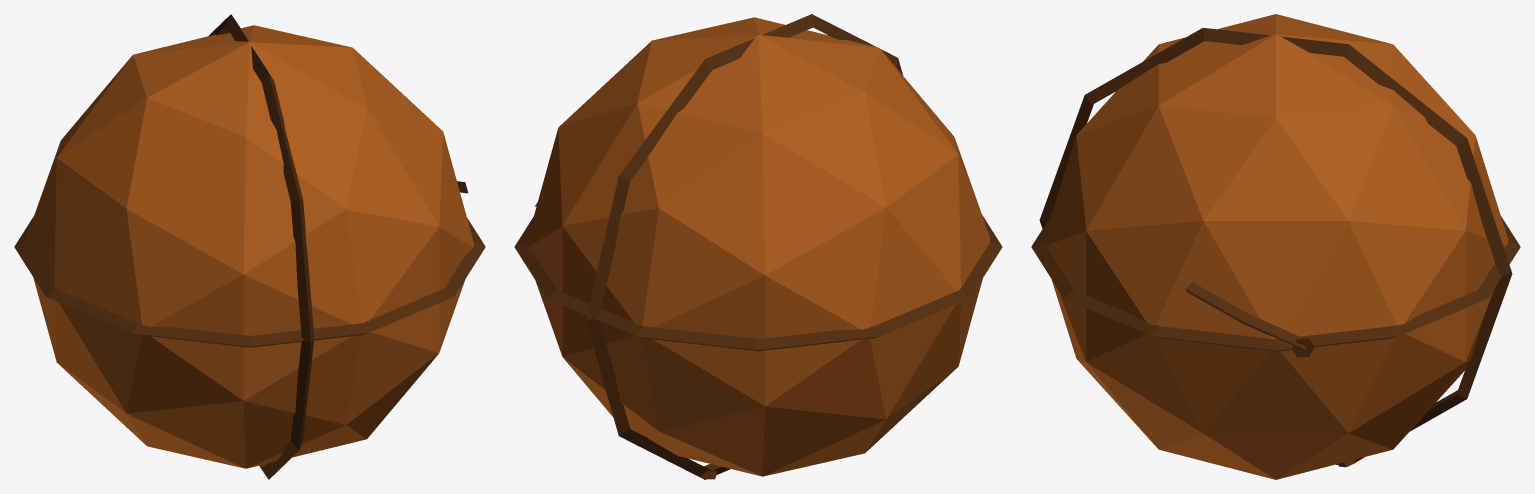
Rendered from atlas_globe.glb.
3 renders of one model, left to right at view 1: azimuth 30°, elevation 25°; view 2: azimuth 150°, elevation 25°; view 3: azimuth 270°, elevation 25°, orthographic. The views are drawn at different scales.
Parts seen in each view (by area): view 1: 692-basketball; view 2: 692-basketball; view 3: 692-basketball.
Part boxes in pixels (x1,y1,x2,y2): 692-basketball: (14, 14, 485, 479); 692-basketball: (514, 14, 1002, 479); 692-basketball: (1031, 14, 1520, 479).
Bounding box in the file's own units: 0.2504 × 0.24 × 0.2504.
